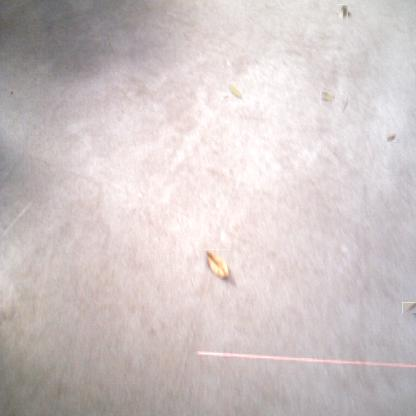dirty: (204, 249, 230, 278), (227, 82, 242, 99), (403, 300, 416, 314), (321, 91, 335, 104), (337, 6, 350, 20), (387, 132, 397, 142)
mark: (342, 97, 350, 113), (221, 94, 229, 101), (7, 89, 14, 97)
